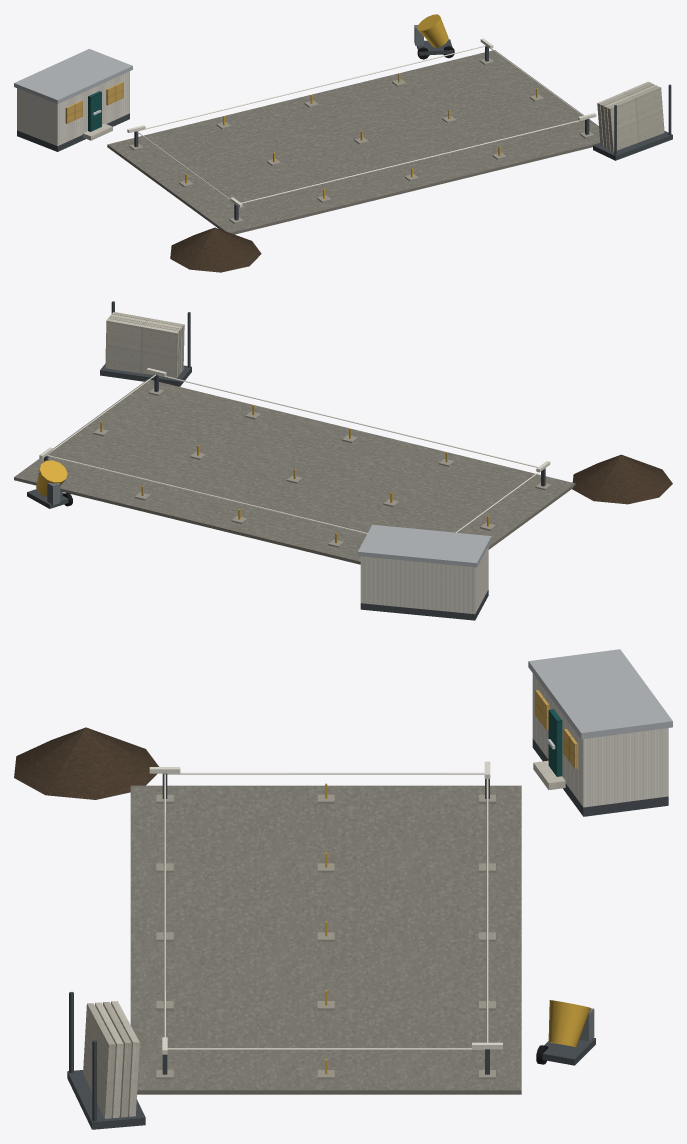
Rendered from fun-4-site.glb.
3 views of the same model, one above another, from view 1: azimuth 30°, elevation 25°; view 2: azimuth 150°, elevation 25°; view 3: azimuth 270°, elevation 25° (orthographic). The views are drawn at different scales.
Bounding box in the file's own units: 27.07 × 2.95 × 19.2.
15 materials, 7 textured.
